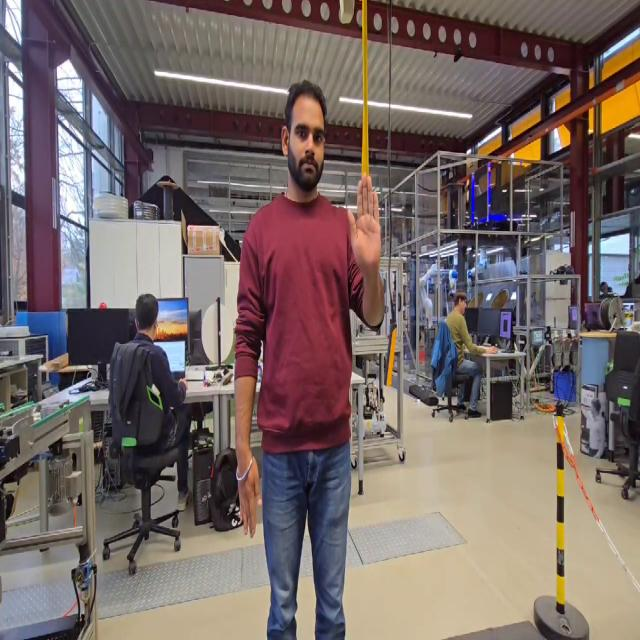open_palm: (346, 168, 386, 279)
